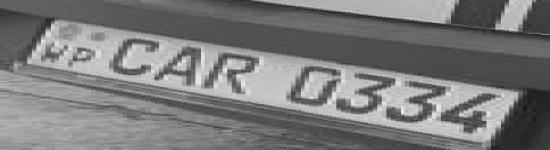0: (285, 65, 343, 107)
3: (370, 77, 471, 129), (326, 68, 404, 120)
4: (421, 84, 516, 139)
A: (152, 46, 205, 87)
C: (103, 36, 164, 74)
P: (67, 45, 99, 70)
R: (199, 52, 265, 95)
W: (41, 41, 70, 64)
